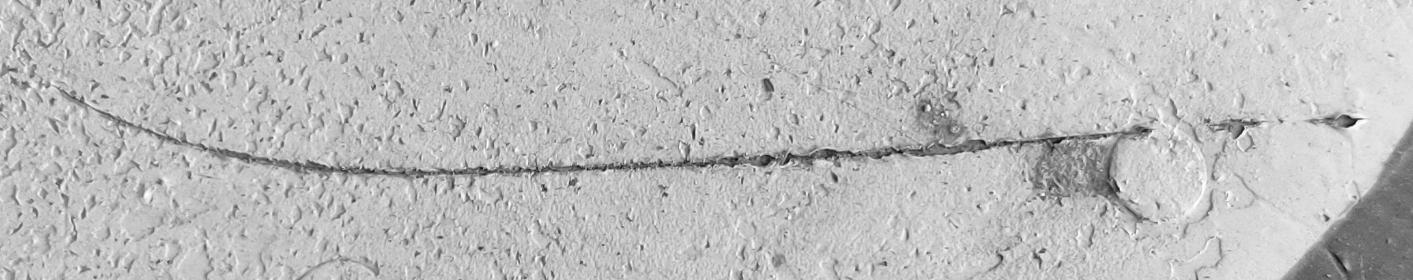scratch: (0, 1, 1413, 280)
